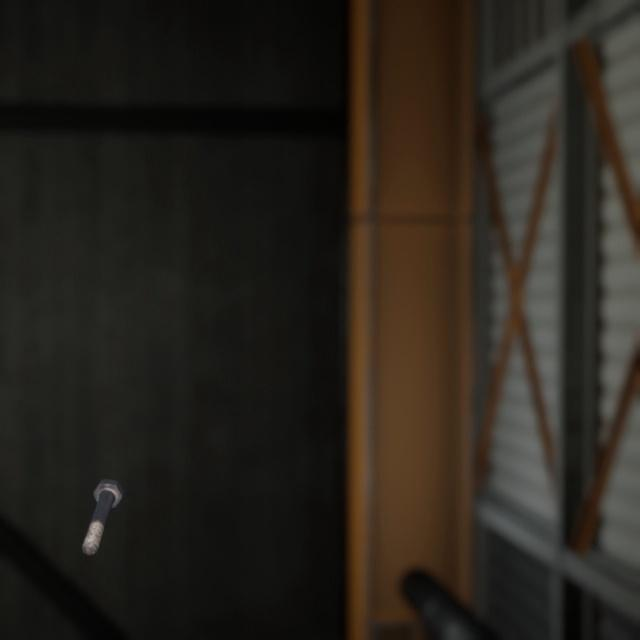bolt: (77, 453, 128, 537)
